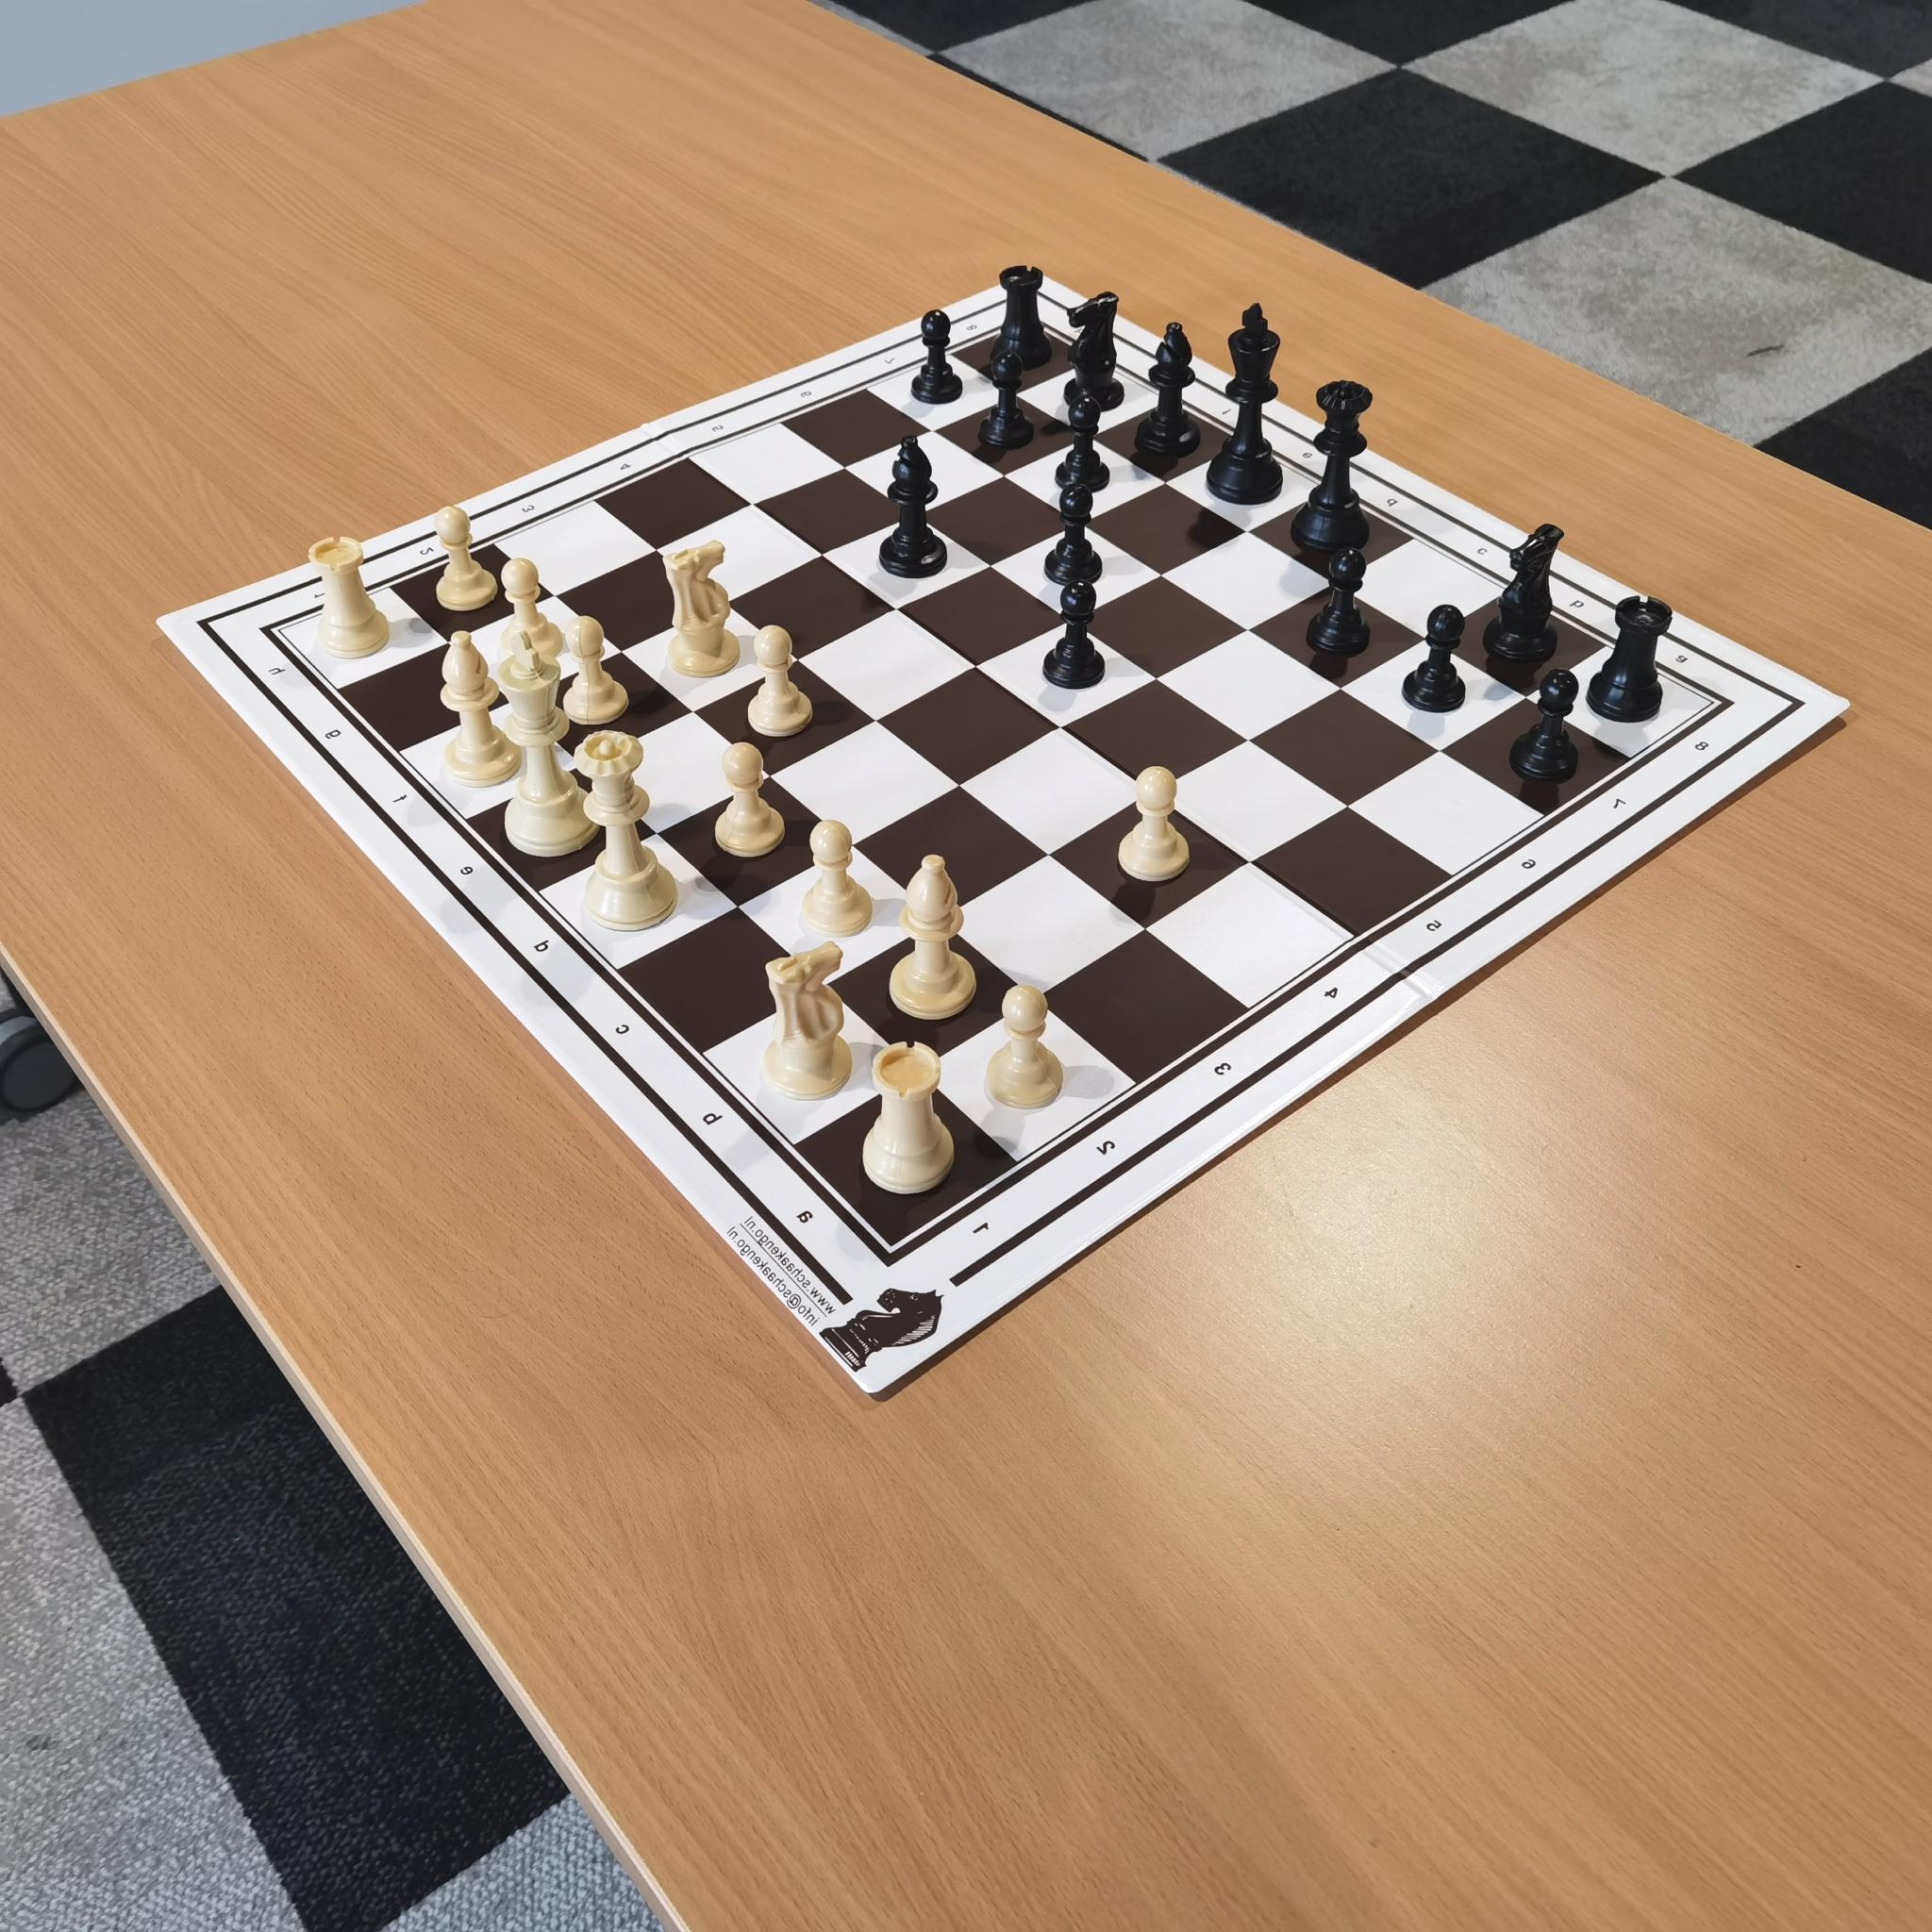corners: (858, 1234, 913, 1294), (1680, 690, 1741, 730), (251, 615, 307, 654), (1001, 296, 1049, 340)
eight: (1679, 722, 1723, 769)
one: (953, 1202, 1009, 1263)
